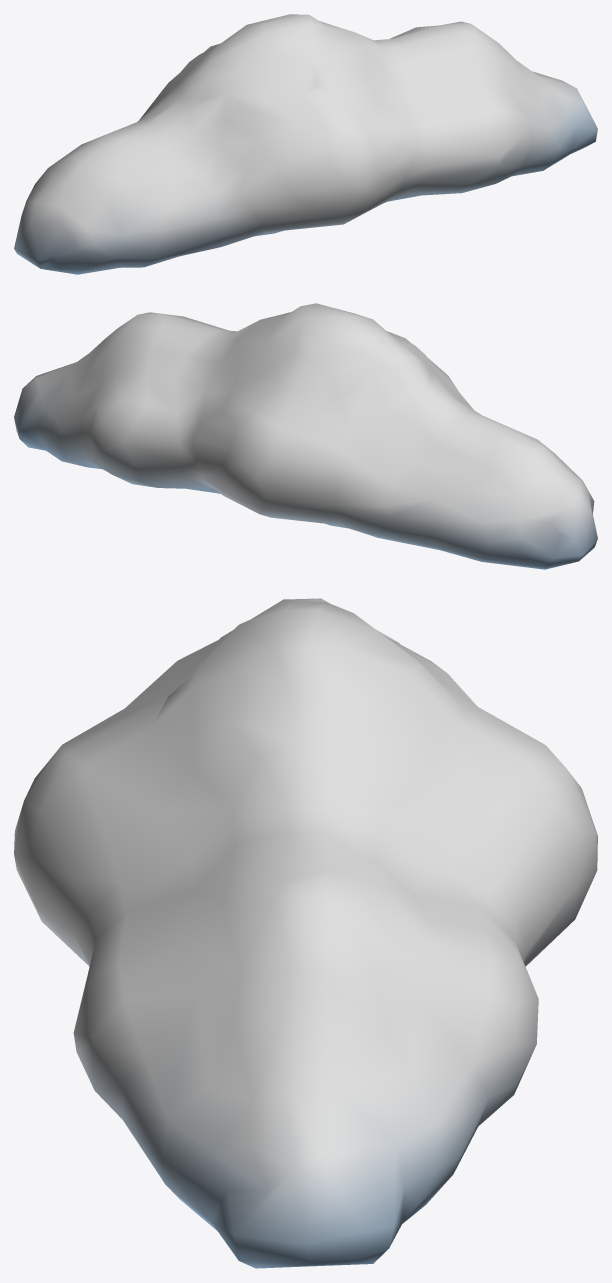
Rendered from cloud2.glb.
The picture shows the model from 3 angles, top to bottom: view 1: azimuth 30°, elevation 25°; view 2: azimuth 150°, elevation 25°; view 3: azimuth 270°, elevation 25°; orthographic projection. The views are drawn at different scales.
Visible parts, largest first — view 1: cloud2; view 2: cloud2; view 3: cloud2.
Part boxes in pixels (x1,y1,x2,y2): cloud2: [14, 14, 597, 274]; cloud2: [14, 303, 597, 569]; cloud2: [14, 598, 597, 1268].
Size of the model in its own units: 1.92 by 0.6337 by 0.8725.
